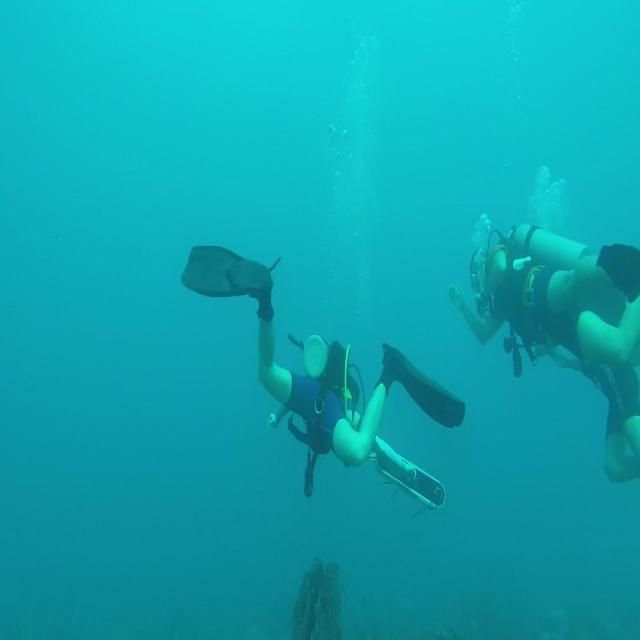human: (180, 243, 466, 511), (448, 212, 639, 482)
